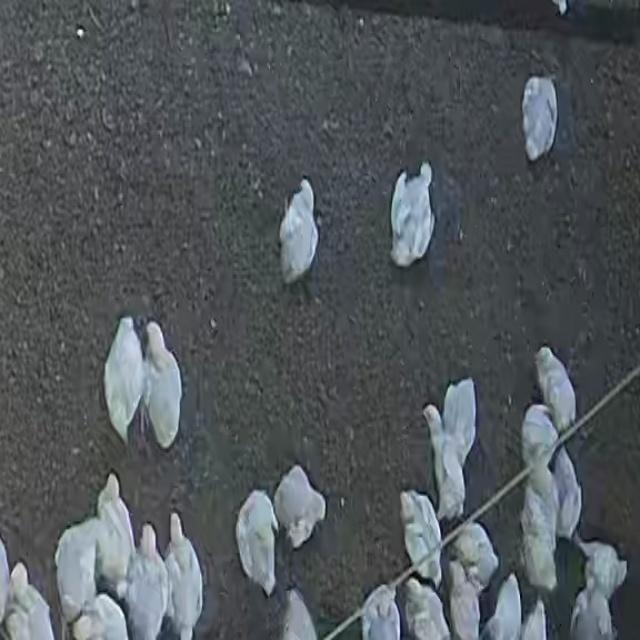chicken: (103, 315, 148, 447), (388, 163, 439, 267), (142, 320, 183, 449), (422, 404, 466, 519), (56, 518, 104, 621), (165, 512, 203, 640), (125, 523, 166, 640), (235, 491, 280, 596), (274, 465, 327, 549), (98, 472, 135, 590), (400, 491, 444, 588), (279, 178, 318, 285), (6, 560, 54, 640), (534, 347, 576, 435), (519, 77, 560, 163), (575, 536, 628, 597), (553, 450, 583, 540), (443, 382, 477, 461), (484, 573, 524, 640), (456, 523, 496, 587), (573, 576, 613, 640), (404, 580, 446, 640), (448, 562, 480, 640), (75, 593, 127, 640), (361, 585, 403, 640), (520, 486, 558, 546), (520, 535, 560, 589), (524, 405, 557, 464), (278, 589, 316, 640), (521, 602, 547, 640)
